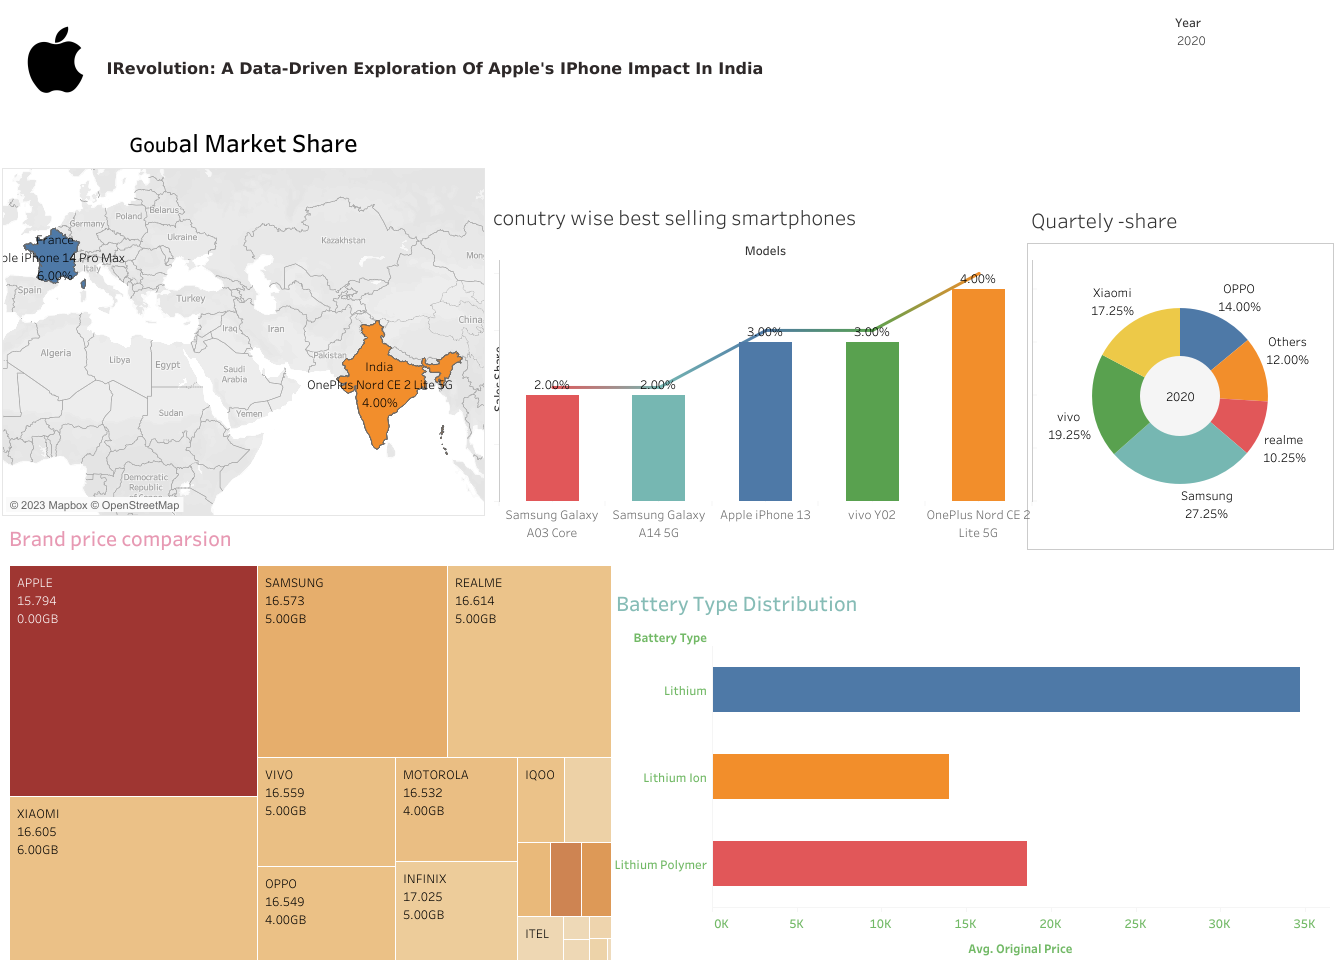

What the dashboard file says about the page in this screenshot:
{"tool":"tableau","page":{"name":"Dashboard 2","canvas":[1000,1000],"units":"permille","ordinal":1},"visuals":[{"type":"filter","title":"Quartely -share","param":"[federated.1jzstxw1bs28c918vq6570hng435].[none:Year:ok]","box":[804.2,13.5,186.5,87.8]},{"type":"image","param":"Image/WhatsApp Image 2023-09-01 at 12.51.49 PM.jpeg","box":[10.8,18.6,63.5,86.2]},{"type":"title","box":[77.8,38.9,724.6,64.2]},{"type":"worksheet","title":"GMS","mark":"Multipolygon","box":[1.8,123.3,360.7,412.2]},{"type":"worksheet","title":"conutry wise best selling smartphones","mark":"Automatic","rows":["Sales Share","Sales Share"],"cols":["Models"],"box":[365.2,204.4,413.9,358.1]},{"type":"worksheet","title":"Quartely -share","mark":"Pie","rows":["Calculation_1015280307620184068","Calculation_1015280307620184068"],"box":[767.4,207.8,229,363.2]},{"type":"worksheet","title":"Brand price comparsion","mark":"Automatic","box":[3.6,537.2,455.4,462.8]},{"type":"worksheet","title":"Battery Type Distribution","mark":"Automatic","rows":["battery_type"],"cols":["original_price"],"box":[457.2,604.7,535.6,395.3]}]}

Visuals, with their boxes on the dashboard's canvas, which has no fixed pixel size, in thousandths of its width and height (x1, y1, x2, y2). These are canvas units, not pixel positions in the 1338x963 screenshot, which may show the page scaled, cropped or inside an application window:
"Quartely -share" filter: box(804, 14, 991, 101)
image: box(11, 19, 74, 105)
title: box(78, 39, 802, 103)
"GMS" worksheet (Multipolygon marks): box(2, 123, 362, 536)
"conutry wise best selling smartphones" worksheet: box(365, 204, 779, 562)
"Quartely -share" worksheet (Pie marks): box(767, 208, 996, 571)
"Brand price comparsion" worksheet: box(4, 537, 459, 1000)
"Battery Type Distribution" worksheet: box(457, 605, 993, 1000)
